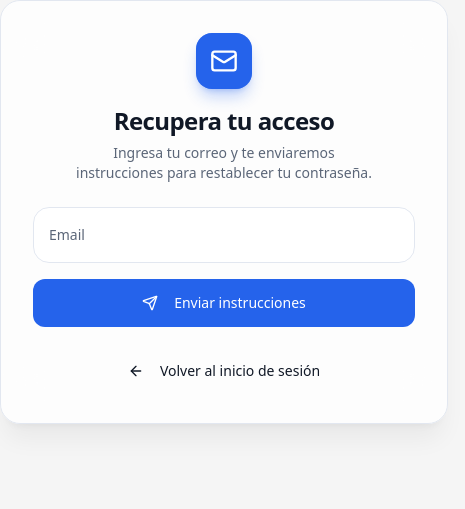
Recupera tu acceso (/forgot-password) › muestra el mensaje del backend si responde con error
The image size is (465, 509).
In the field labelled "Email": coordinates (224, 235) [33, 207, 415, 263], type "admin@clinica.test"
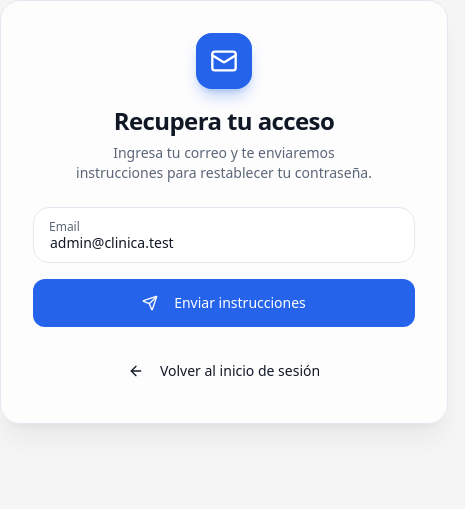
Click the button "Enviar instrucciones": coordinates (224, 303) [33, 279, 415, 327]
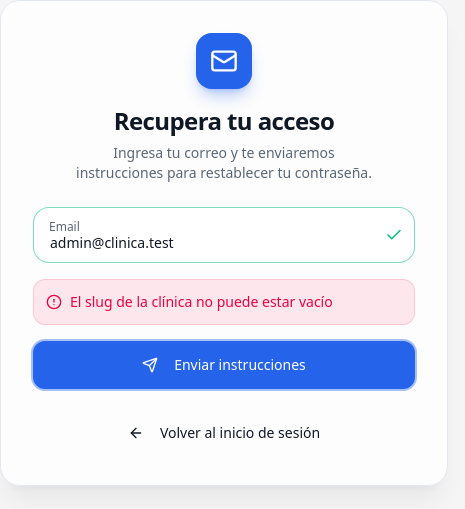
Check: the message reads "El slug de la clínica no puede estar vacío", box [70, 292, 333, 311]
